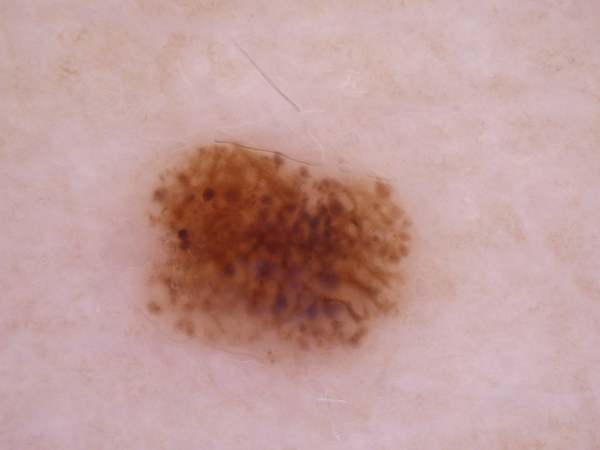Detected Lesion: (142, 141, 416, 361)
